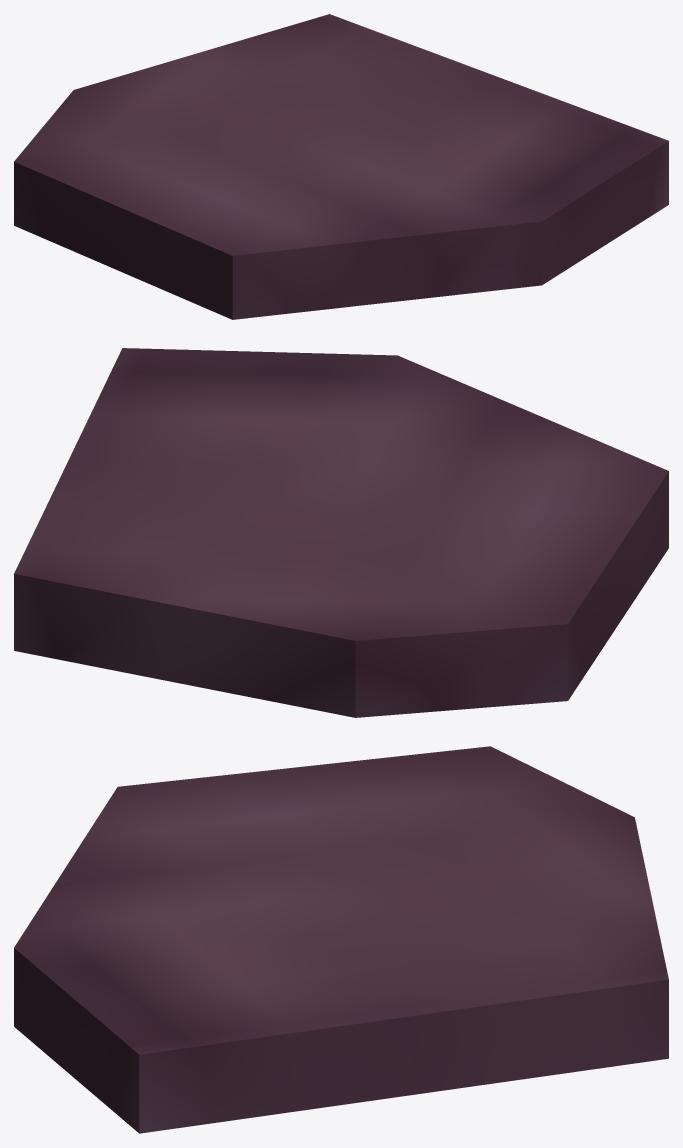
File: shizi2.FBX
3 renders of one model, top to bottom at view 1: azimuth 30°, elevation 25°; view 2: azimuth 150°, elevation 25°; view 3: azimuth 270°, elevation 25°, orthographic. The views are drawn at different scales.
Visible parts, largest first — view 1: shizi2; view 2: shizi2; view 3: shizi2.
Part boxes in pixels (x1,y1,x2,y2): shizi2: (14,14,668,319); shizi2: (14,348,668,717); shizi2: (14,746,668,1133).
Size of the model in its own units: 0.7335 by 0.0875 by 0.6582.
